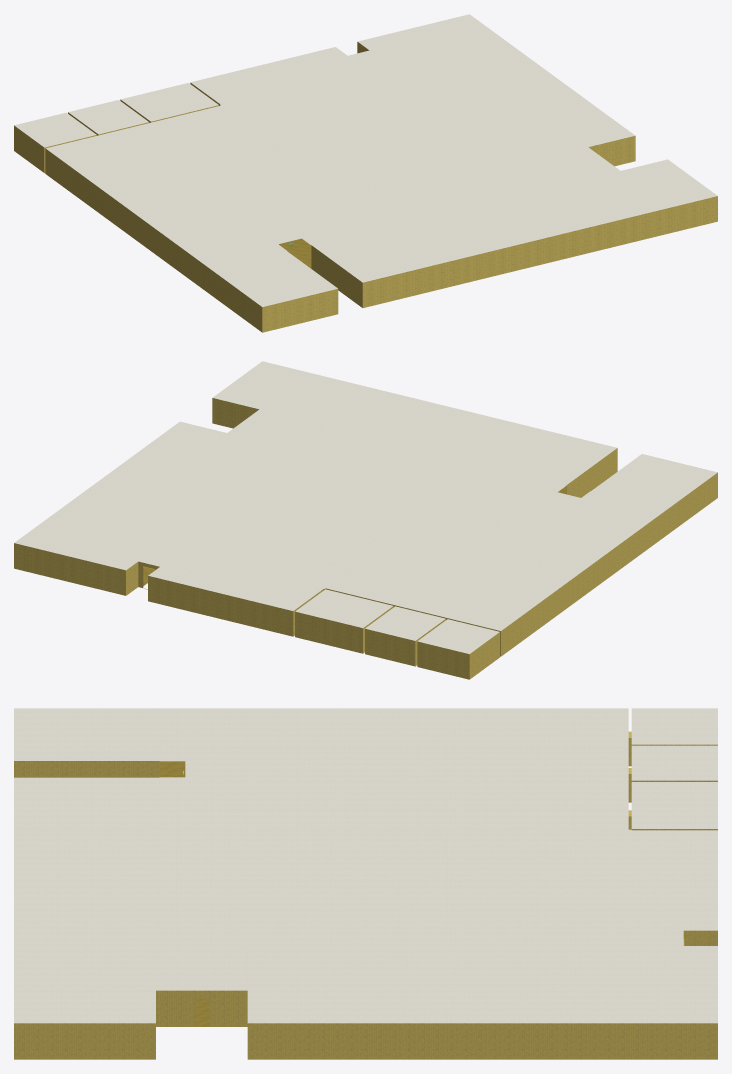
The model's file is gbi_L1_2.glb.
3 views of the same model, one above another, from view 1: azimuth 30°, elevation 25°; view 2: azimuth 150°, elevation 25°; view 3: azimuth 270°, elevation 25° (orthographic). The views are drawn at different scales.
Parts seen in each view (by area): view 1: M_D_ceil_L1, M_D_wall_L1, M_GBI_kit; view 2: M_D_ceil_L1, M_D_wall_L1, M_GBI_kit; view 3: M_D_ceil_L1, M_D_wall_L1, M_GBI_kit, M_D_floor_L1.
Part boxes in pixels (bbox=[...]): M_D_ceil_L1: bbox=[14, 14, 717, 306]; M_D_wall_L1: bbox=[14, 42, 717, 332]; M_GBI_kit: bbox=[311, 135, 635, 307]; M_D_ceil_L1: bbox=[14, 361, 717, 653]; M_D_wall_L1: bbox=[14, 472, 717, 679]; M_GBI_kit: bbox=[212, 398, 617, 497]; M_D_ceil_L1: bbox=[14, 708, 717, 1023]; M_D_wall_L1: bbox=[14, 731, 717, 1059]; M_GBI_kit: bbox=[14, 761, 247, 1026]; M_D_floor_L1: bbox=[159, 761, 208, 1026].
Bounding box in the file's own units: 52.2 × 2.8 × 49.3.
15 materials, 5 textured.
